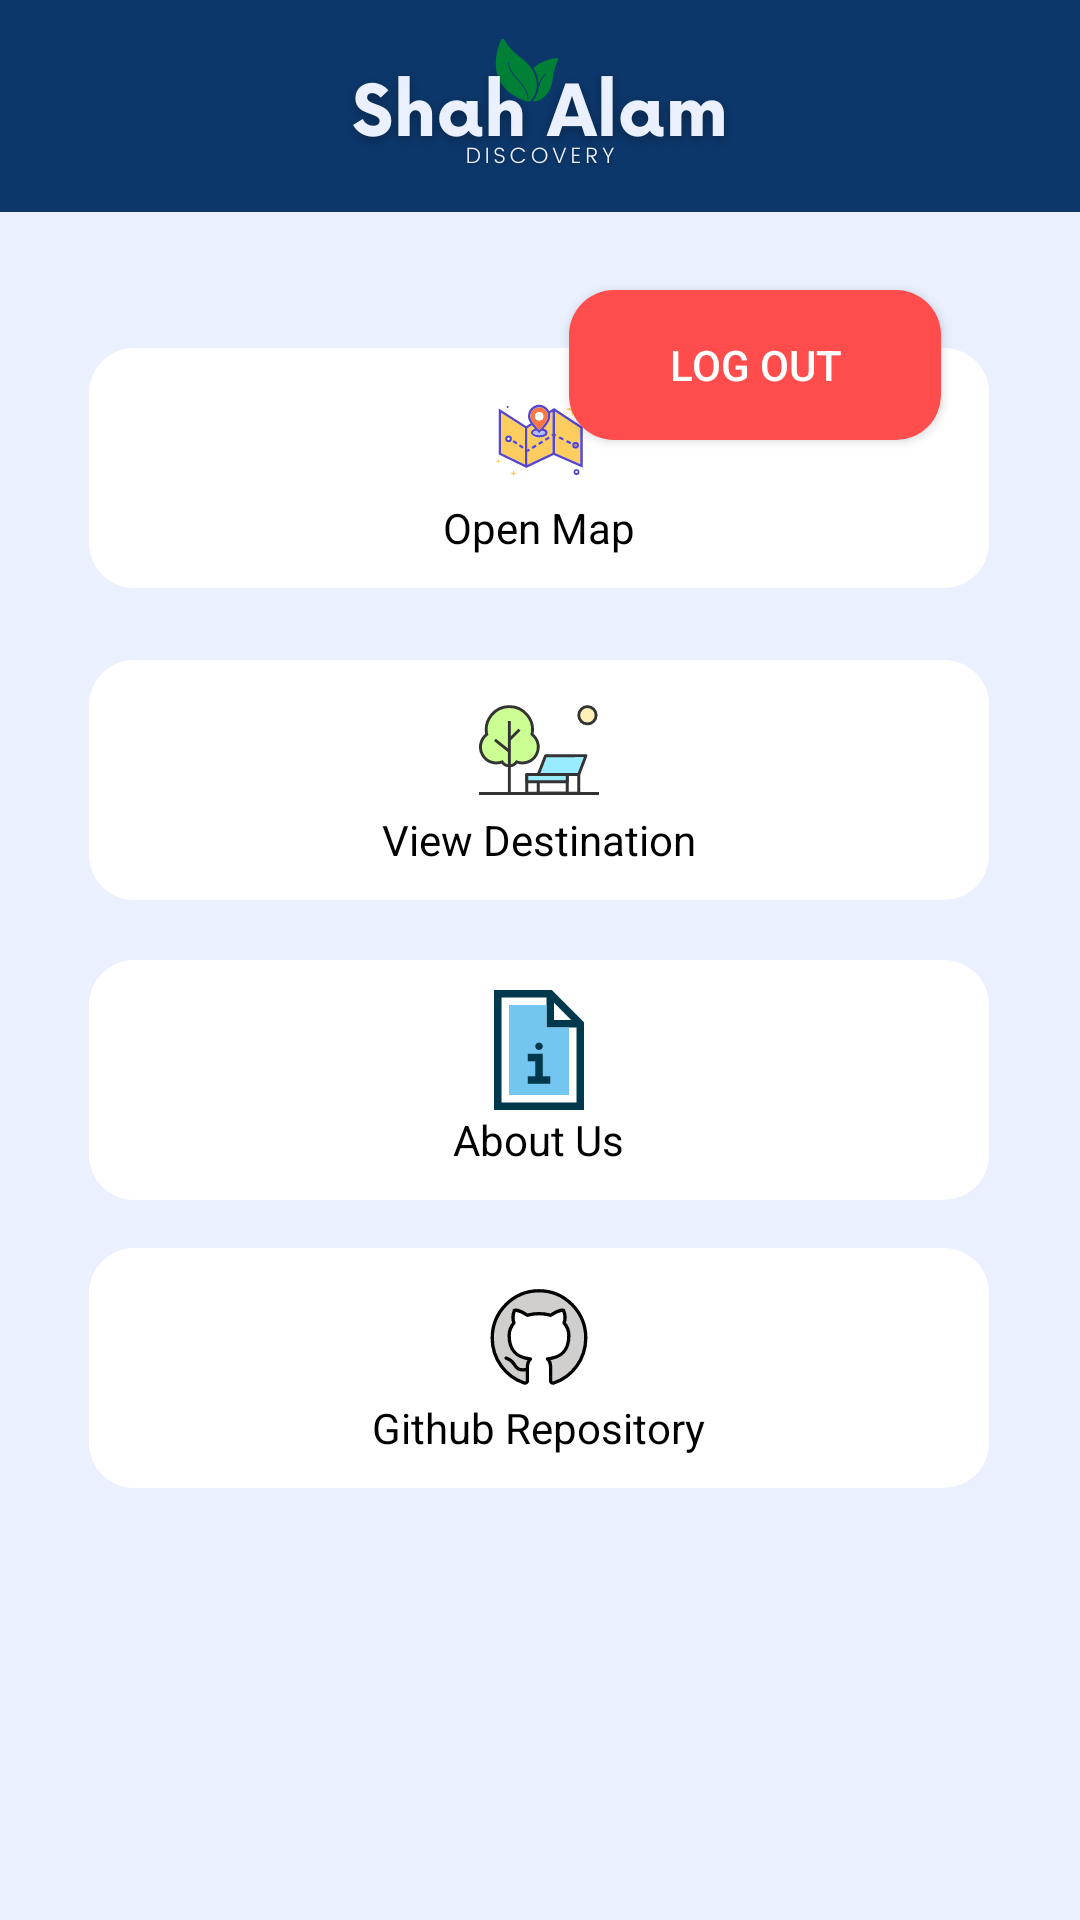

Point at icon controls on the screen. Image size 1080*1920, points as [x,y].
park: [539,750]
